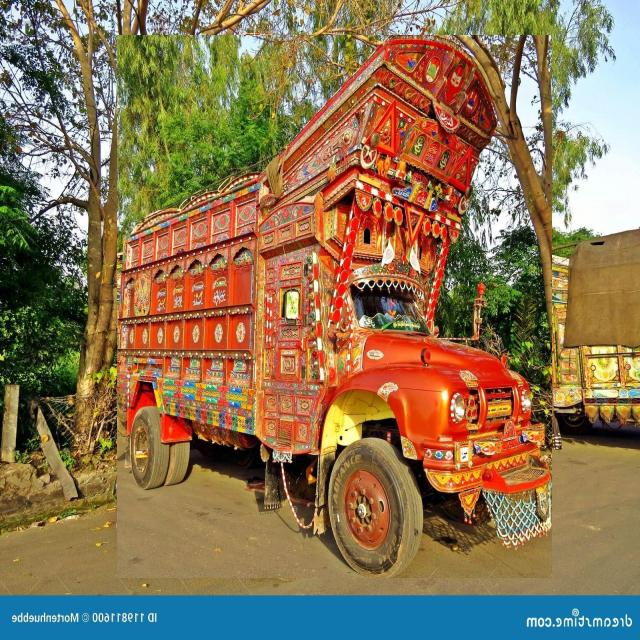truck: (117, 36, 551, 578)
